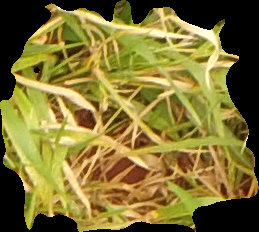grass: (1, 1, 258, 231)
